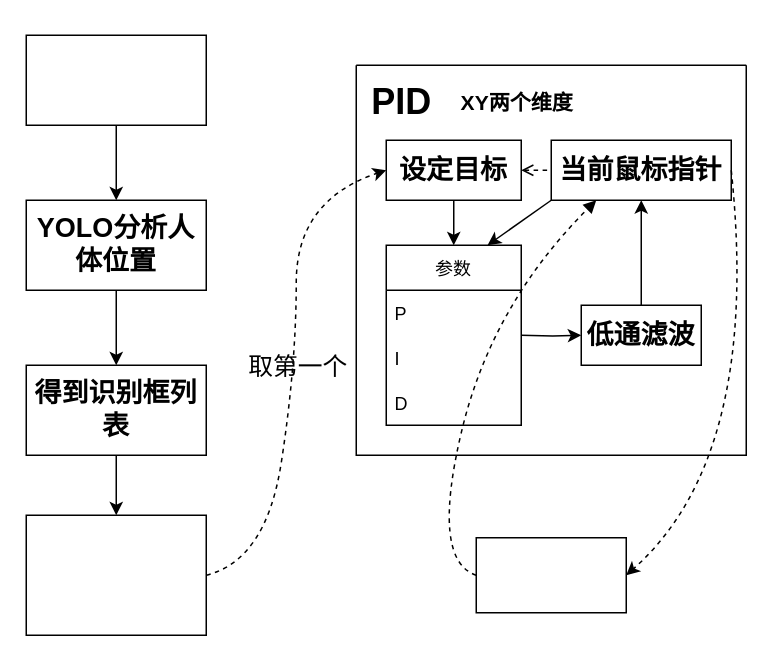
This 773x672 diagram has some shape labels left out. Here are the shapes that lost their labels. From the top down, the centre of each, then its label:
At [115,79]: "调用winapi 截取屏幕".
At [115,574]: "按面积为主关键字,极径为次关键字排序".
At [550,574]: "弹道修正".
